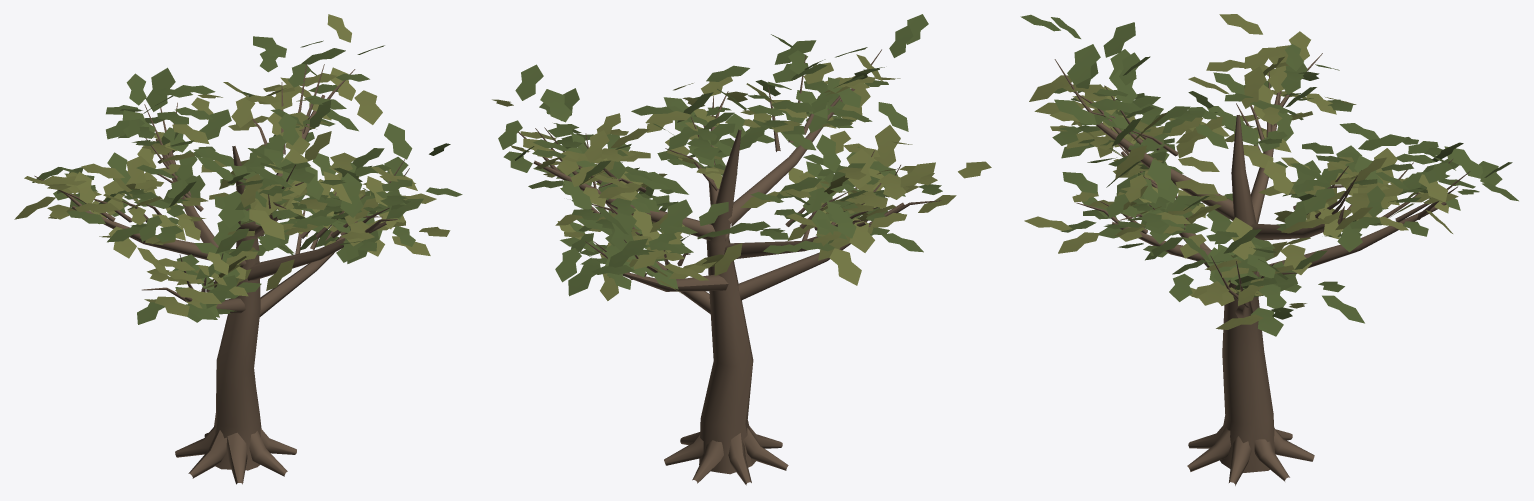
The picture shows the model from 3 angles, left to right: view 1: azimuth 30°, elevation 25°; view 2: azimuth 150°, elevation 25°; view 3: azimuth 270°, elevation 25°; orthographic projection. The views are drawn at different scales.
Visible parts, largest first — view 1: Mesh_DeepGreenOakLeaves, Mesh_SunlitOliveOakLeaves, Mesh_TrunkRootsBranchNetwork; view 2: Mesh_DeepGreenOakLeaves, Mesh_SunlitOliveOakLeaves, Mesh_TrunkRootsBranchNetwork; view 3: Mesh_DeepGreenOakLeaves, Mesh_SunlitOliveOakLeaves, Mesh_TrunkRootsBranchNetwork.
Boxes of the visible parts, x1,y1,x2,y2 form: Mesh_DeepGreenOakLeaves: (32,36,462,324); Mesh_SunlitOliveOakLeaves: (14,14,450,316); Mesh_TrunkRootsBranchNetwork: (34,64,409,484); Mesh_DeepGreenOakLeaves: (498,14,942,296); Mesh_SunlitOliveOakLeaves: (492,54,991,300); Mesh_TrunkRootsBranchNetwork: (518,49,941,485); Mesh_DeepGreenOakLeaves: (1020,14,1518,336); Mesh_SunlitOliveOakLeaves: (1024,14,1458,329); Mesh_TrunkRootsBranchNetwork: (1054,53,1470,485).
Size of the model in its own units: 6.22 by 5.84 by 6.51.
